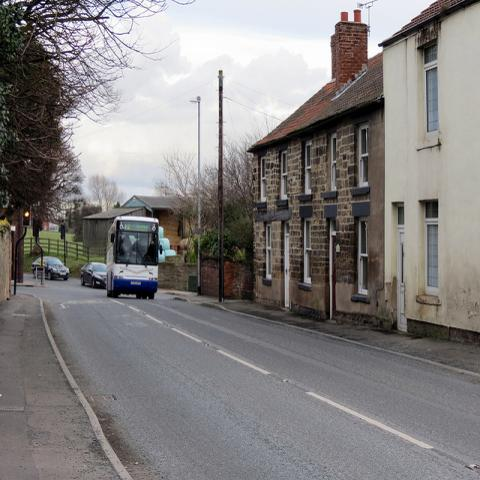bus: (107, 216, 158, 299)
car: (32, 257, 70, 281), (79, 262, 107, 288)
